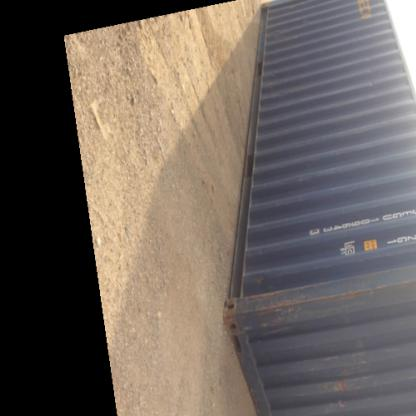Damage: (234, 281, 308, 331), (310, 370, 370, 400), (326, 277, 388, 305), (358, 40, 382, 98), (262, 55, 294, 91)
